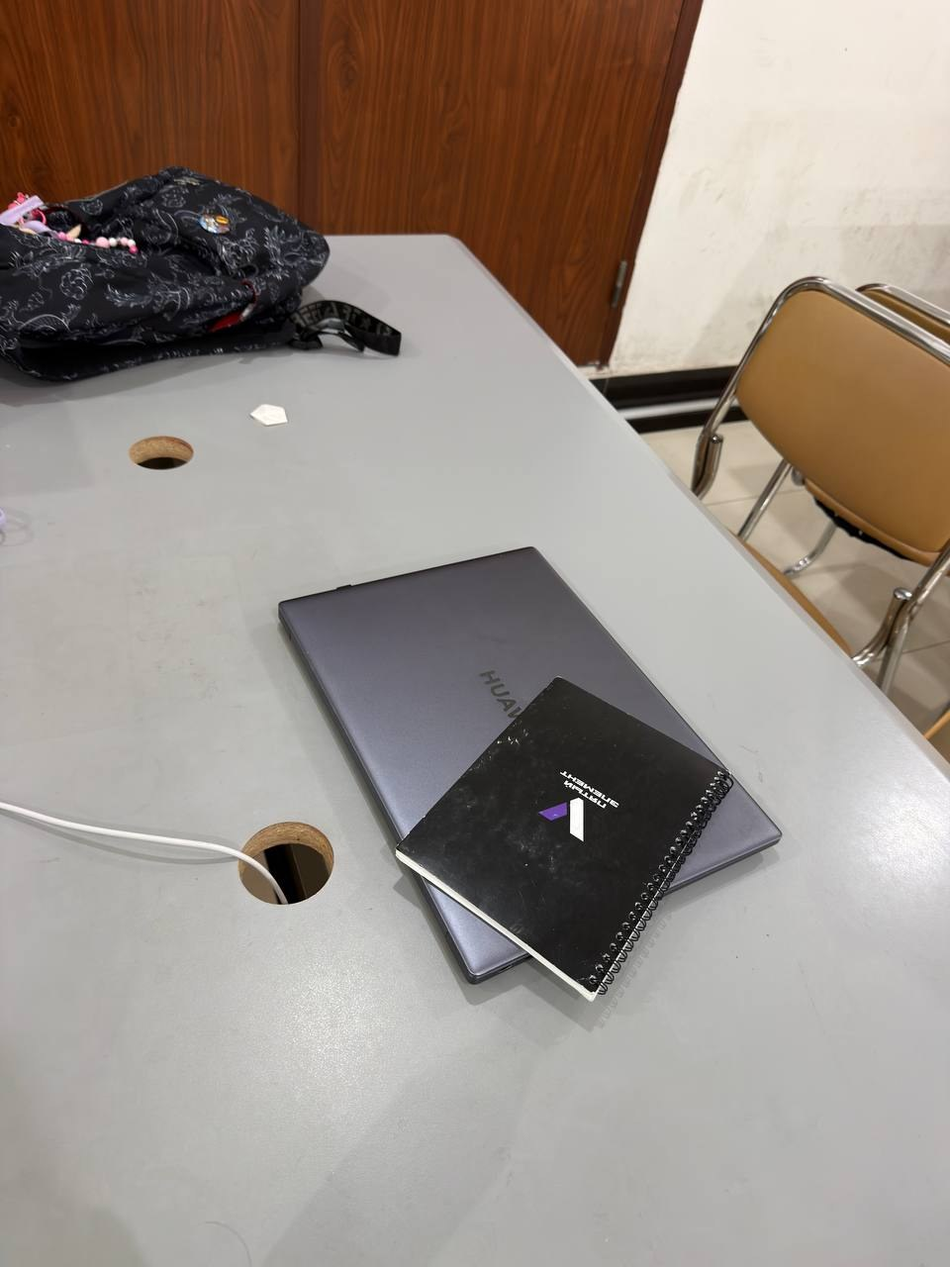laptop: (278, 544, 783, 988)
